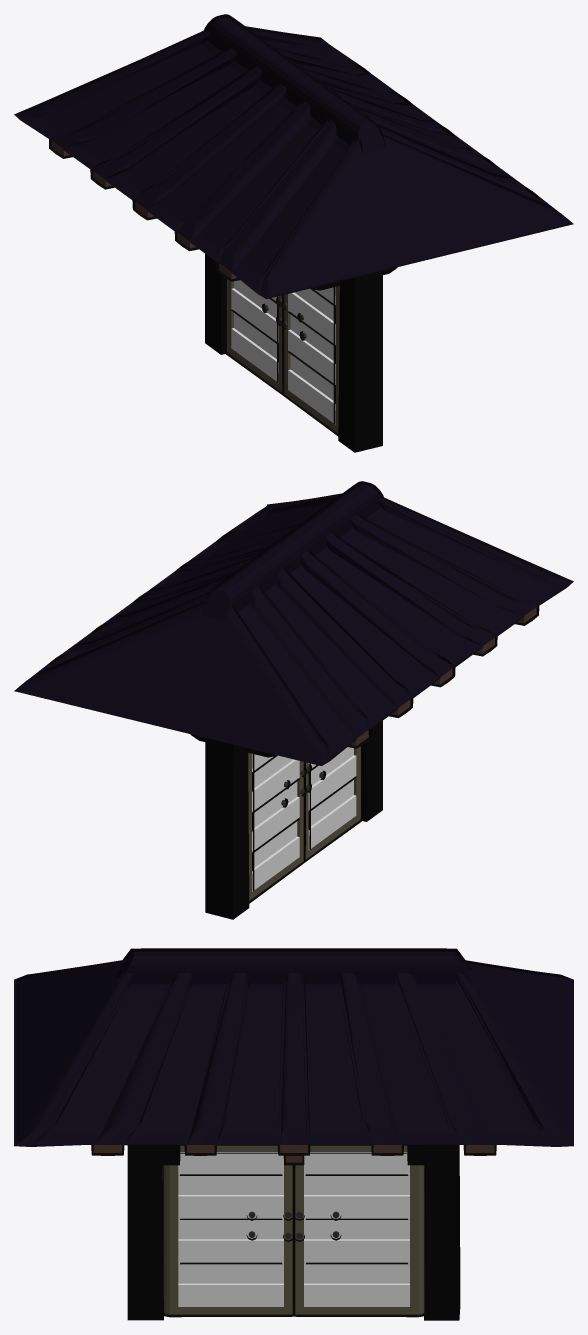
The model's file is gate.fbx.
3 views of the same model, one above another, from view 1: azimuth 30°, elevation 25°; view 2: azimuth 150°, elevation 25°; view 3: azimuth 270°, elevation 25° (orthographic). The views are drawn at different scales.
Parts seen in each view (by area): view 1: Gate, Left Door, Right Door; view 2: Gate, Right Door, Left Door; view 3: Gate, Right Door, Left Door.
Part boxes in pixels (box(x1,y1,x2,y2)): Gate: box(14, 14, 573, 452); Left Door: box(281, 286, 339, 436); Right Door: box(224, 278, 282, 394); Gate: box(14, 481, 573, 919); Right Door: box(248, 753, 306, 903); Left Door: box(305, 745, 363, 861); Gate: box(14, 948, 573, 1320); Right Door: box(293, 1145, 425, 1317); Left Door: box(162, 1145, 294, 1317).
Size of the model in its own units: 2436 by 2452 by 3439.
